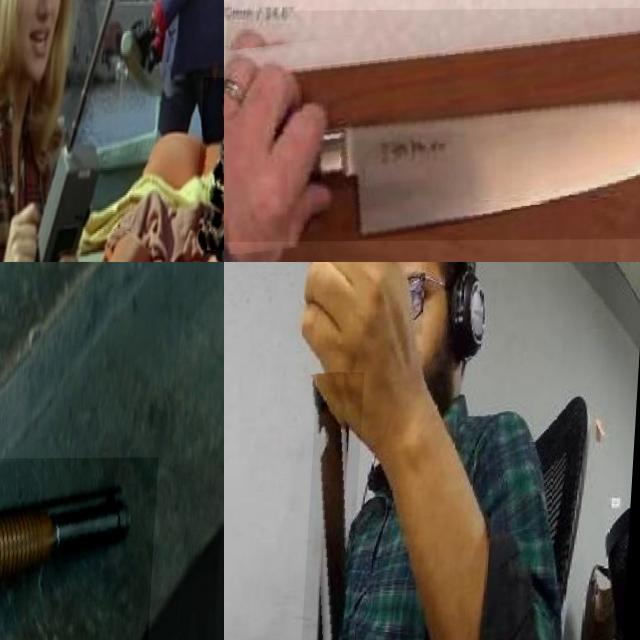-: (224, 8, 640, 242), (309, 372, 369, 640)
gun-knife-thesis - v11 Yolov5 augmented: (0, 458, 203, 640), (199, 77, 224, 250)
